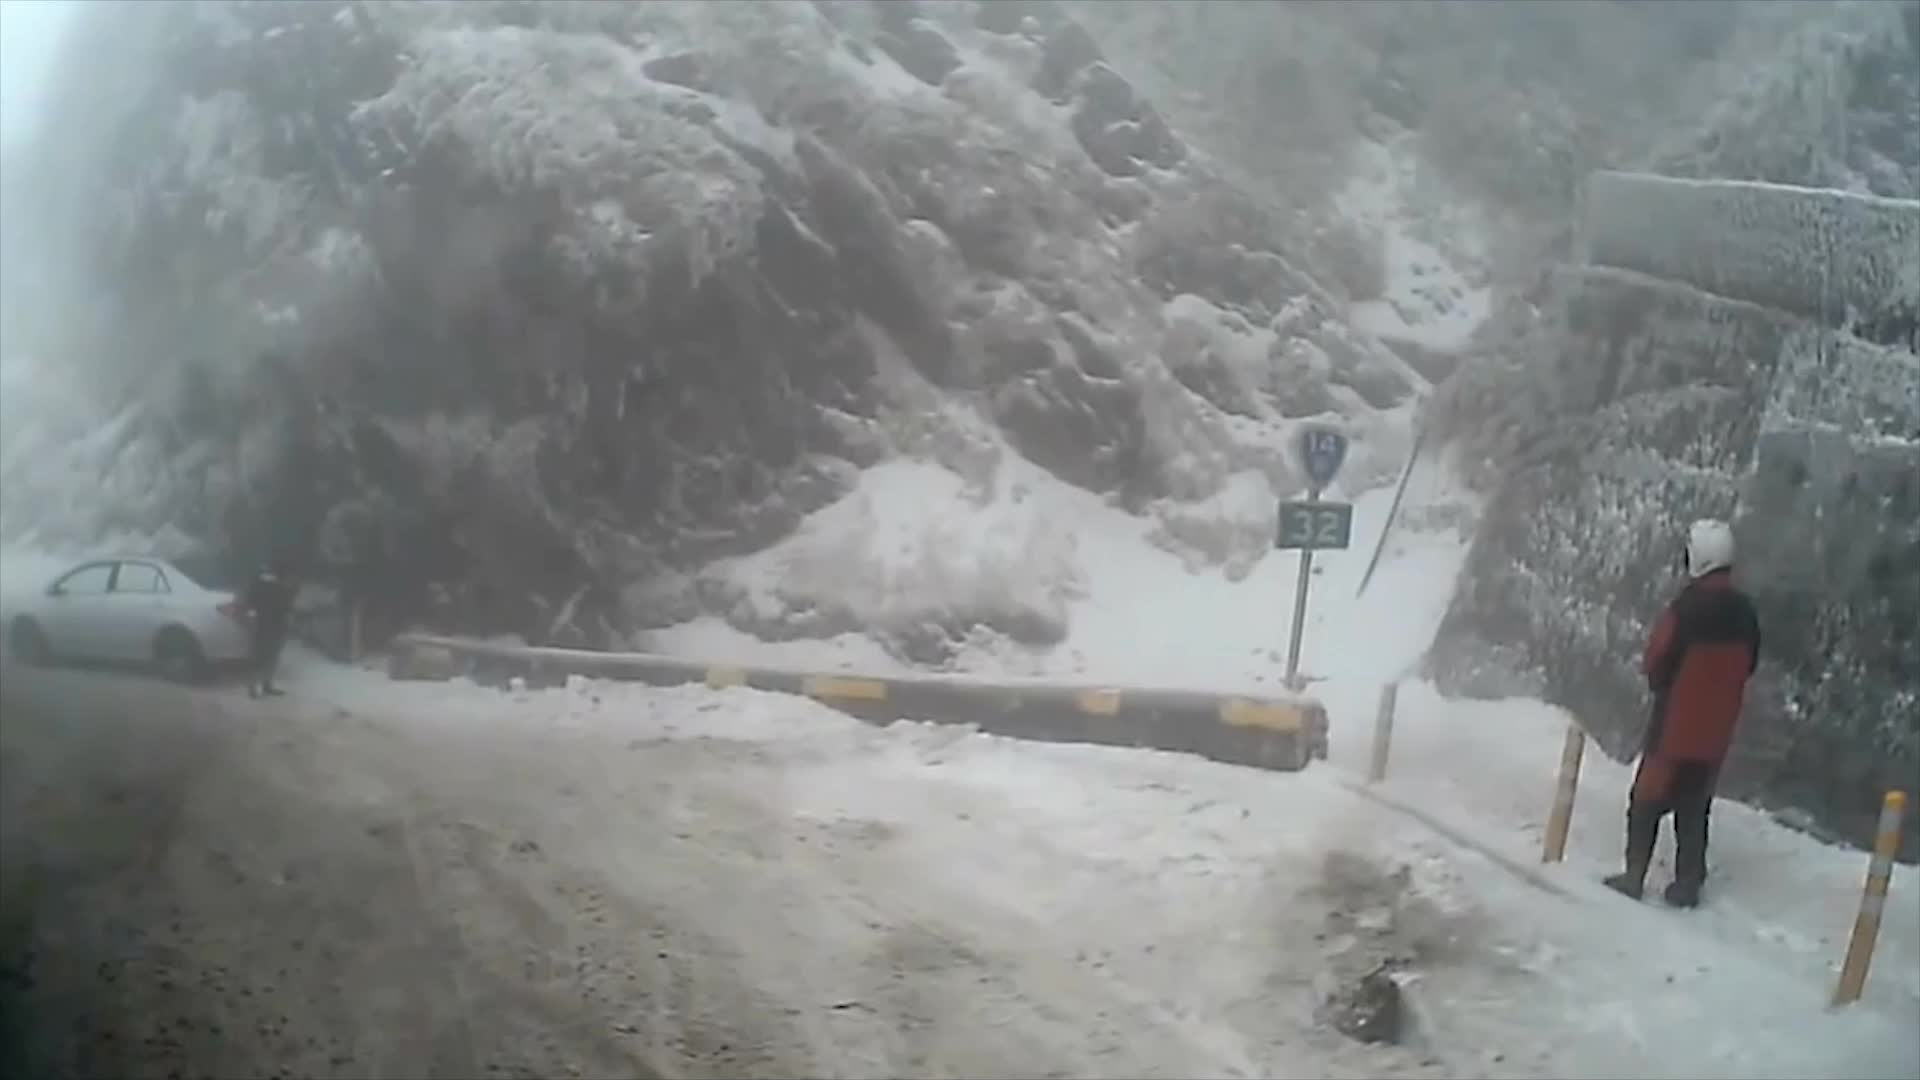pedestrian: (1610, 517, 1762, 907), (245, 565, 294, 698)
vehicle: (0, 549, 265, 681)
